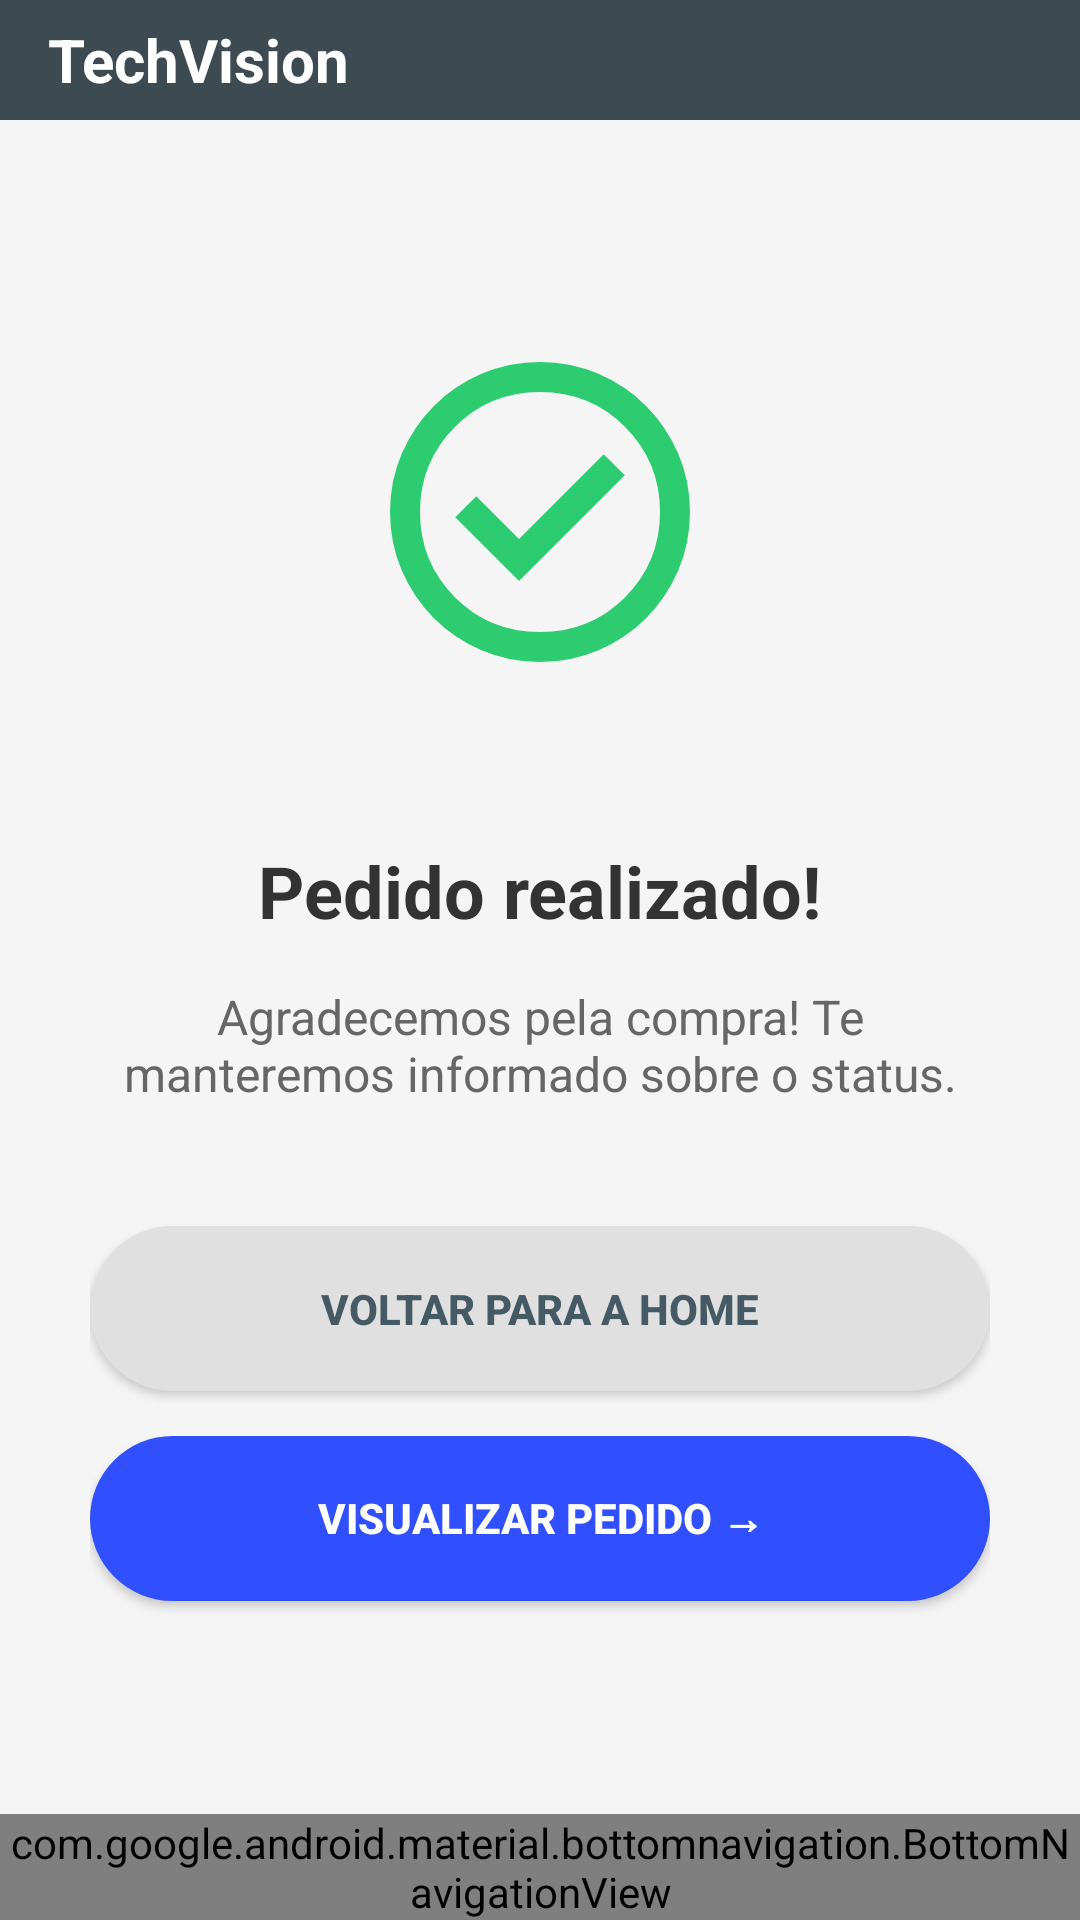

Screen size 1080 x 1920. Icon name, then its center in pixels as point (x, y):
sucesso verde: point (540, 512)
